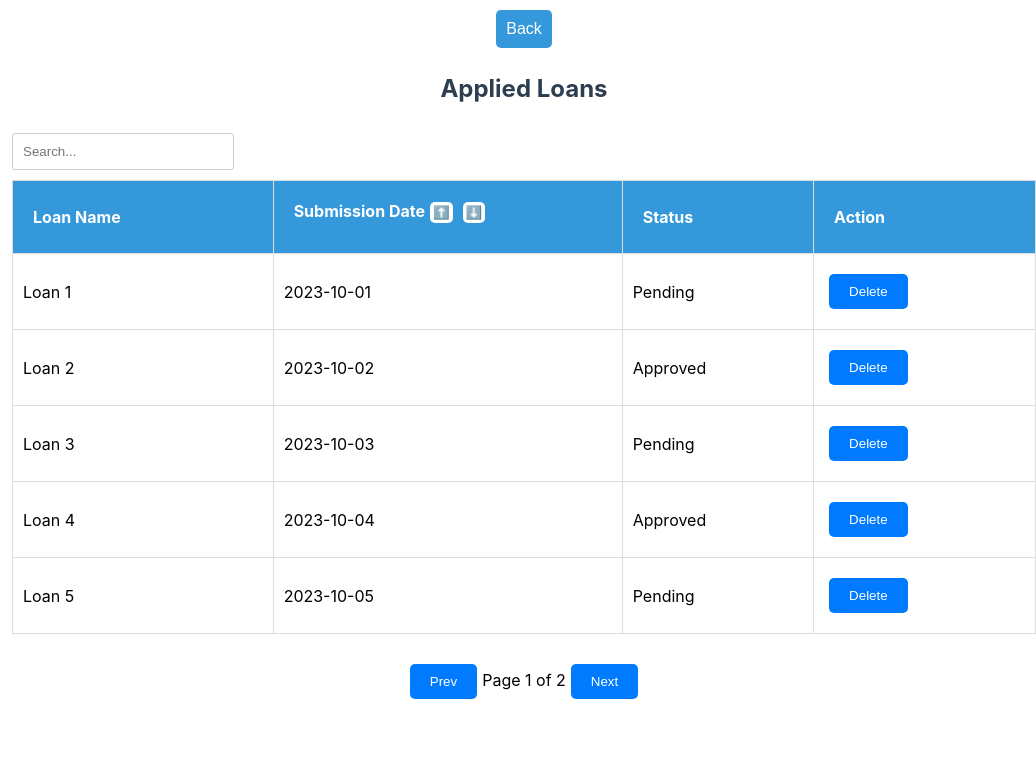
Scenario: AppliedLoansPage Component › should_filter_applied_loans_based_on_search_input
Type "Loan 3" into the field with placeholder "Search...". click: (123, 152)
box: top-left (12, 133), bottom-right (234, 170)
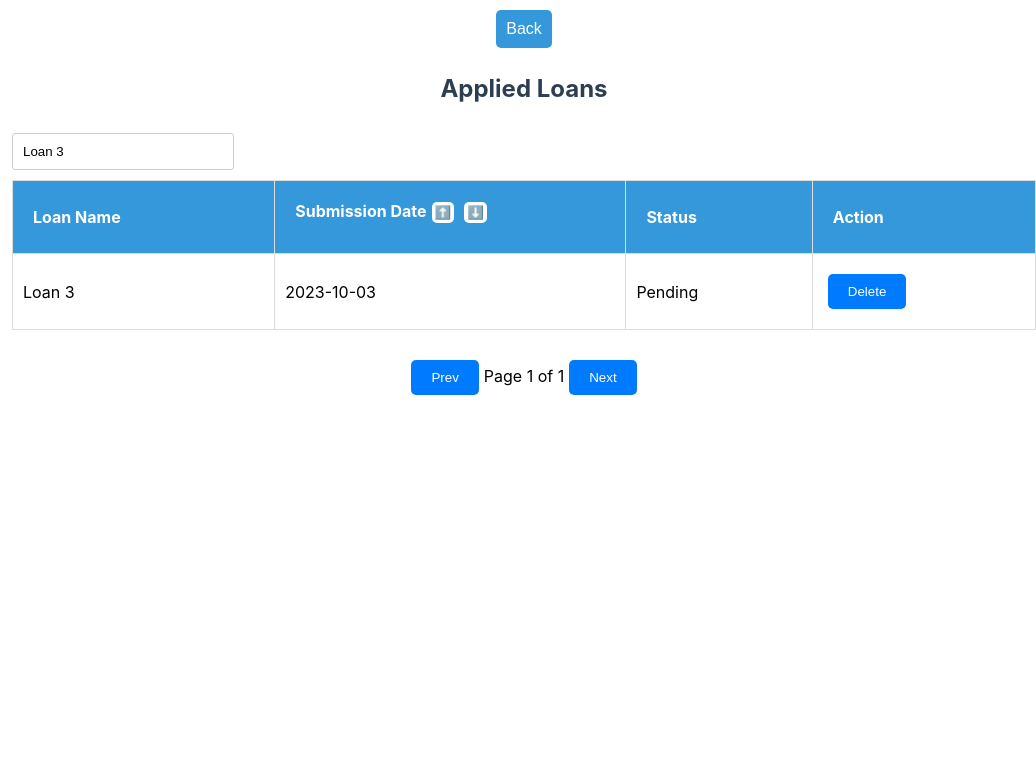
Expected: the text "Loan 3" is shown, top-left (12, 254), bottom-right (275, 330)
Expected: the text "Loan 1" is gone
